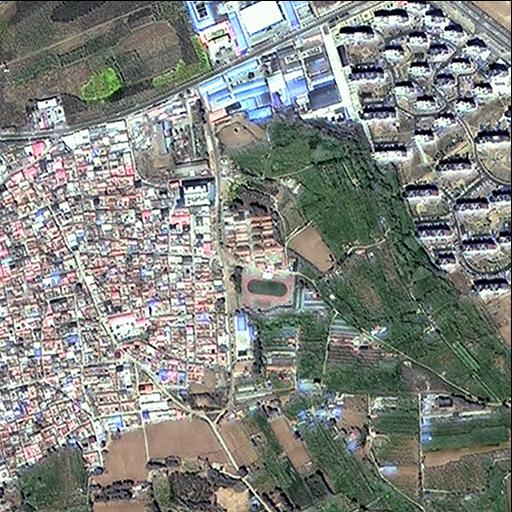school: (221, 211, 295, 314)
